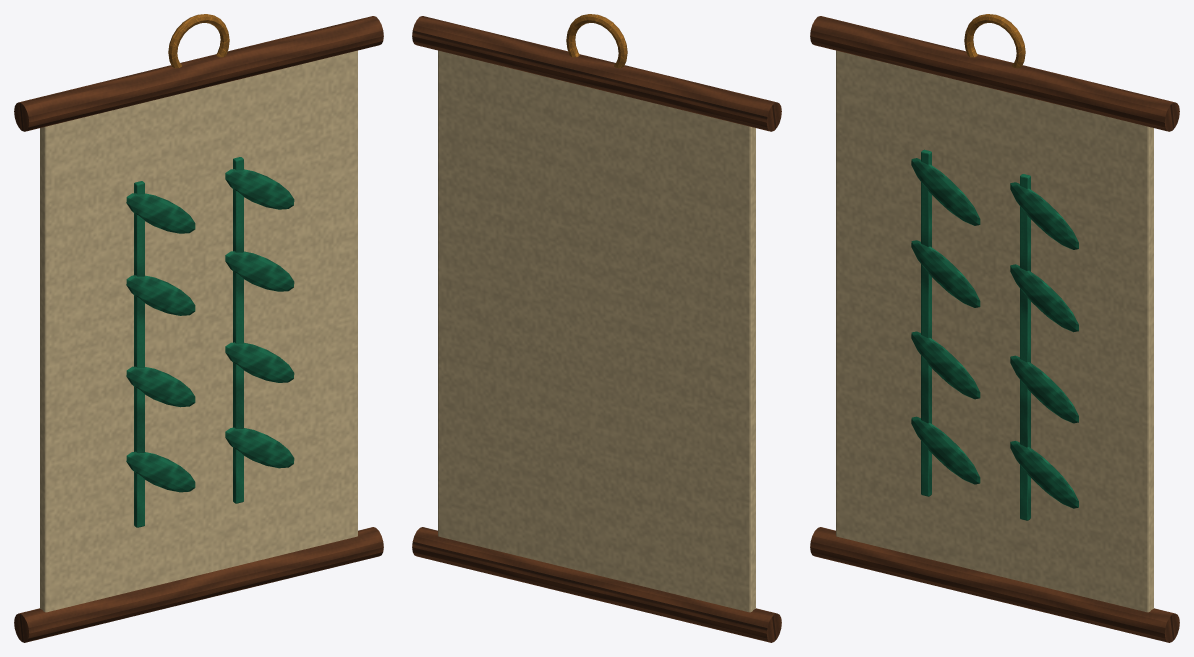
Rendered from wall_scroll.glb.
The picture shows the model from 3 angles, left to right: view 1: azimuth 30°, elevation 25°; view 2: azimuth 150°, elevation 25°; view 3: azimuth 330°, elevation 25°; orthographic projection.
Visible parts, largest first — view 1: wall_scroll_Paper, wall_scroll_Walnut, wall_scroll_Jade, wall_scroll_Brass; view 2: wall_scroll_Paper, wall_scroll_Walnut, wall_scroll_Brass; view 3: wall_scroll_Paper, wall_scroll_Walnut, wall_scroll_Jade, wall_scroll_Brass.
Boxes of the visible parts, x1,y1,x2,y2 form: wall_scroll_Paper: [40, 50, 357, 612]; wall_scroll_Walnut: [14, 16, 383, 642]; wall_scroll_Jade: [126, 157, 294, 527]; wall_scroll_Brass: [168, 14, 229, 68]; wall_scroll_Paper: [438, 50, 755, 612]; wall_scroll_Walnut: [412, 16, 781, 642]; wall_scroll_Brass: [566, 14, 627, 68]; wall_scroll_Paper: [836, 50, 1153, 612]; wall_scroll_Walnut: [810, 16, 1179, 642]; wall_scroll_Jade: [911, 149, 1078, 520]; wall_scroll_Brass: [964, 14, 1025, 68].
Bounding box in the file's own units: 1.22 × 1.92 × 0.0912.
4 materials, 4 textured.
